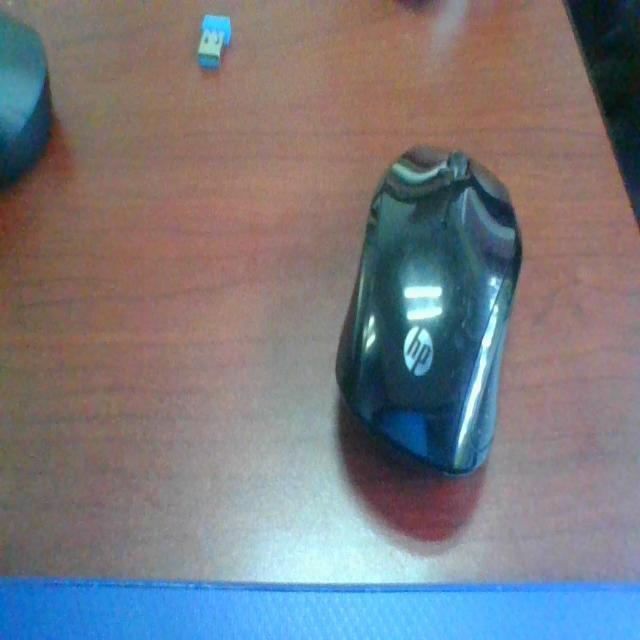mouse: (329, 142, 538, 490)
